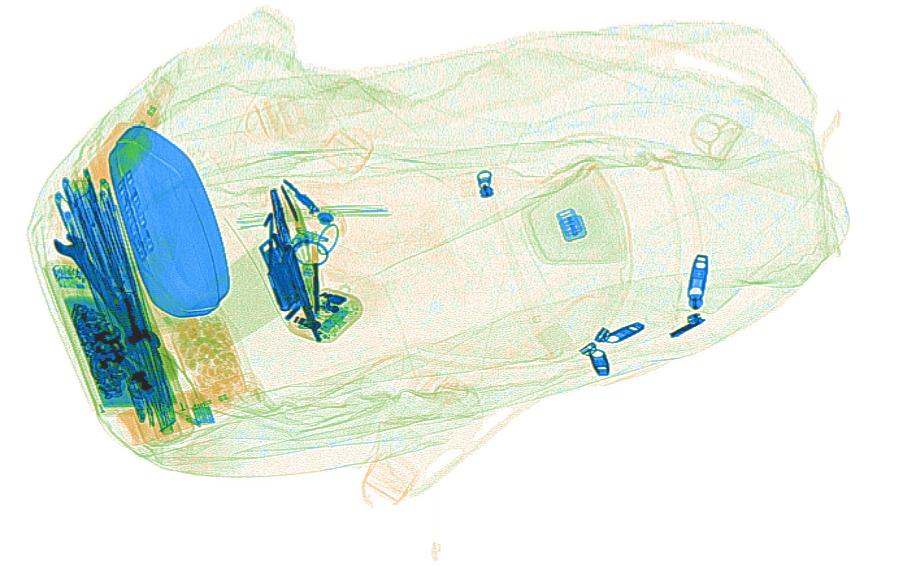plasticBottleWithaNozzle: (117, 370, 267, 448), (83, 75, 177, 193)
